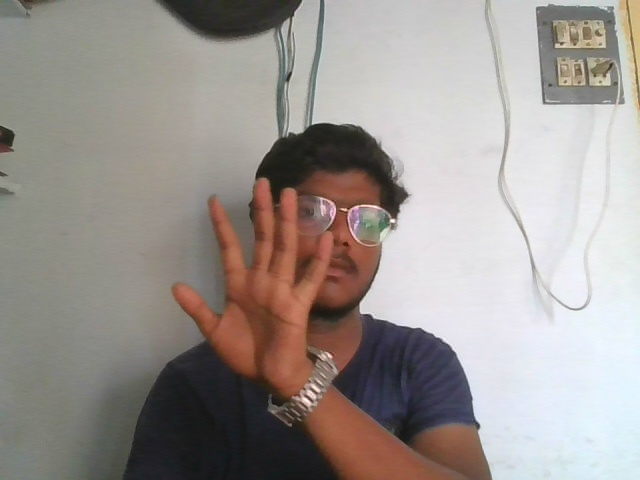Hello: (174, 170, 335, 380)
